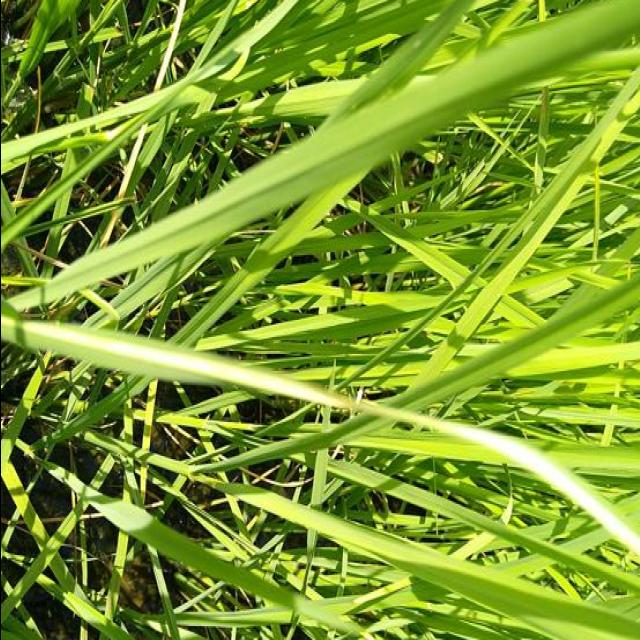Leaf Blight: (17, 322, 640, 562)
